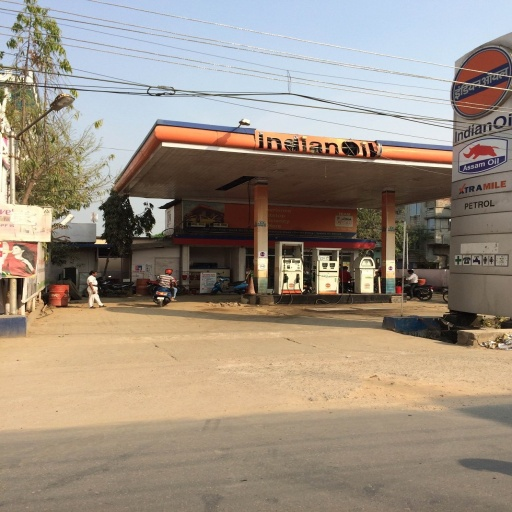roof: (113, 113, 463, 199)
